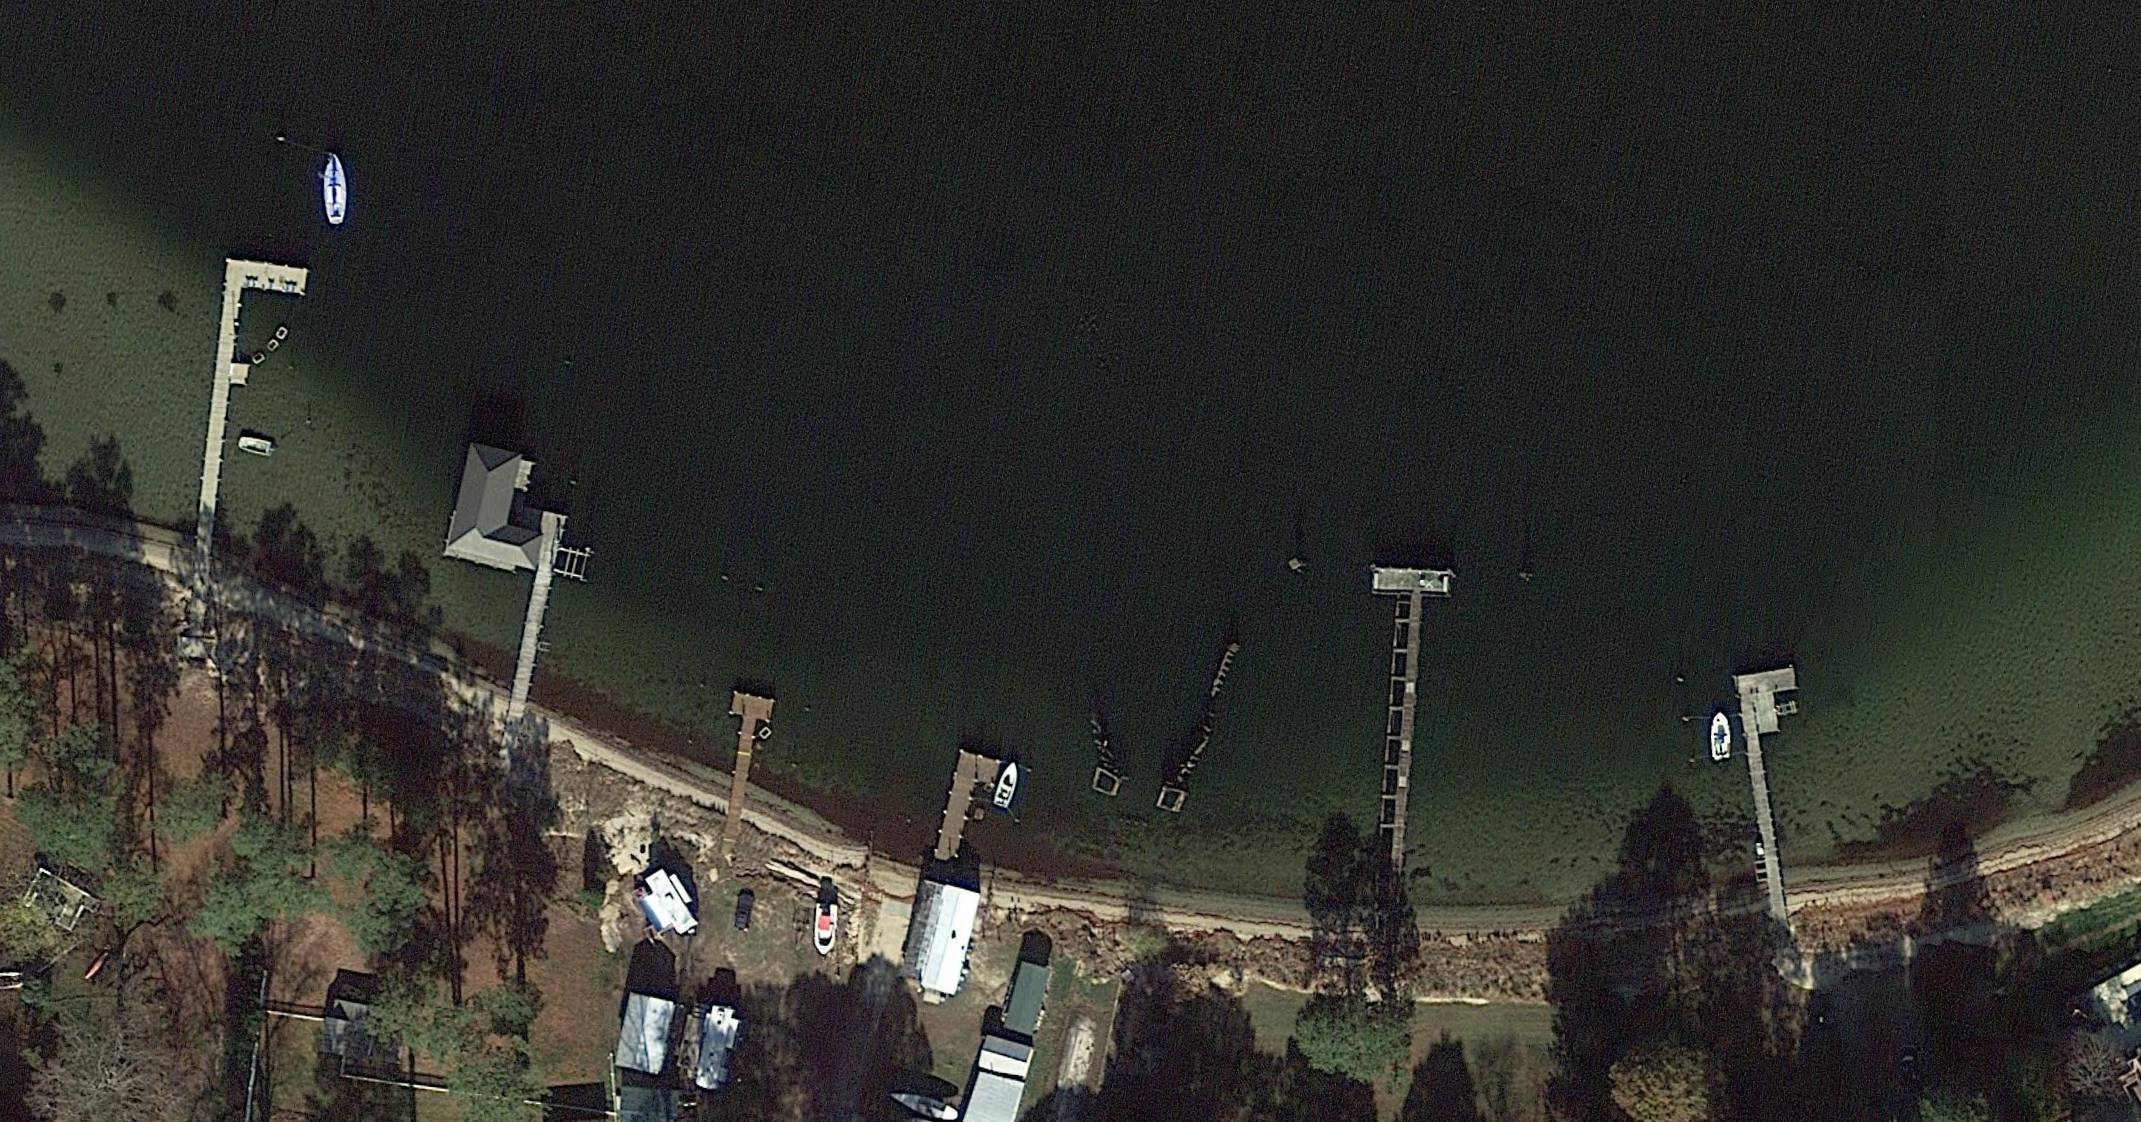harbor: (429, 443, 580, 653), (196, 257, 309, 490), (1360, 570, 1451, 796), (1734, 668, 1824, 857), (938, 752, 1003, 854), (720, 694, 775, 774)
ship: (321, 151, 351, 227)
